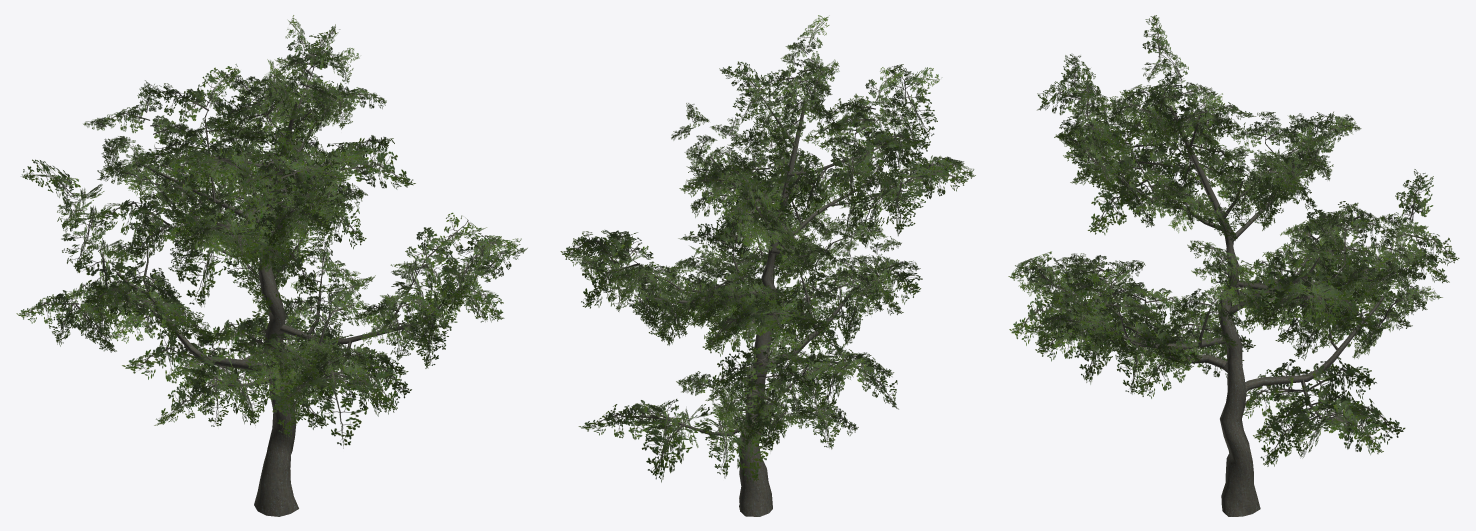
The model's file is oak_big_1.glb.
3 renders of one model, left to right at view 1: azimuth 30°, elevation 25°; view 2: azimuth 150°, elevation 25°; view 3: azimuth 270°, elevation 25°, orthographic. The views are drawn at different scales.
Parts seen in each view (by area): view 1: Big_oak_tree__002_LOD1; view 2: Big_oak_tree__002_LOD1; view 3: Big_oak_tree__002_LOD1.
Boxes of the visible parts, x1,y1,x2,y2 form: Big_oak_tree__002_LOD1: (16, 15, 527, 516); Big_oak_tree__002_LOD1: (560, 15, 975, 516); Big_oak_tree__002_LOD1: (1008, 15, 1459, 516).
Bounding box in the file's own units: 13.68 × 20.28 × 17.39.
2 materials, 2 textured.
